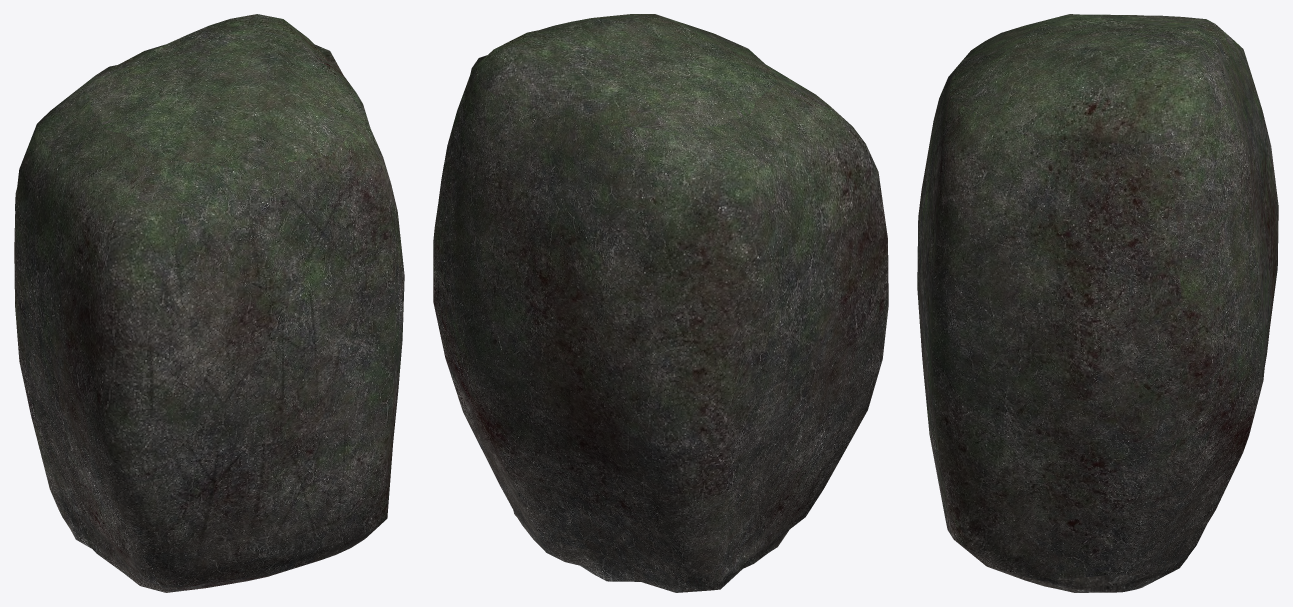
File: vikingRock_edit_for_FBX.fbx
The picture shows the model from 3 angles, left to right: view 1: azimuth 30°, elevation 25°; view 2: azimuth 150°, elevation 25°; view 3: azimuth 270°, elevation 25°; orthographic projection. The views are drawn at different scales.
Visible parts, largest first — view 1: vikingRock; view 2: vikingRock; view 3: vikingRock.
Boxes of the visible parts, box(x1,y1,x2,y2) form: vikingRock: box(14, 14, 404, 592); vikingRock: box(433, 14, 888, 592); vikingRock: box(917, 14, 1278, 592).
Size of the model in its own units: 141 by 200 by 121.
